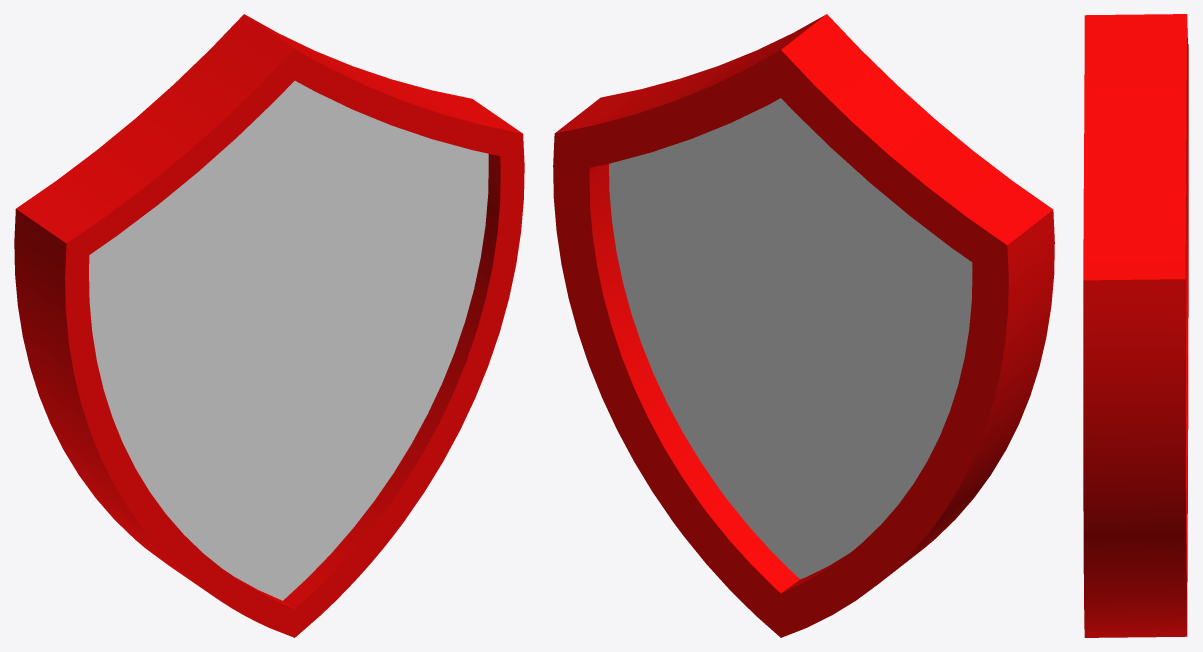
File: _Shield.fbx
3 renders of one model, left to right at view 1: azimuth 30°, elevation 25°; view 2: azimuth 150°, elevation 25°; view 3: azimuth 270°, elevation 25°, orthographic. The views are drawn at different scales.
Parts seen in each view (by area): view 1: Object_2; view 2: Object_2; view 3: Object_2.
Part boxes in pixels (box(x1,y1,x2,y2)): Object_2: box(14, 14, 524, 637); Object_2: box(553, 14, 1054, 637); Object_2: box(1083, 14, 1188, 637).
Bounding box in the file's own units: 68.53 × 83.8 × 12.88.
